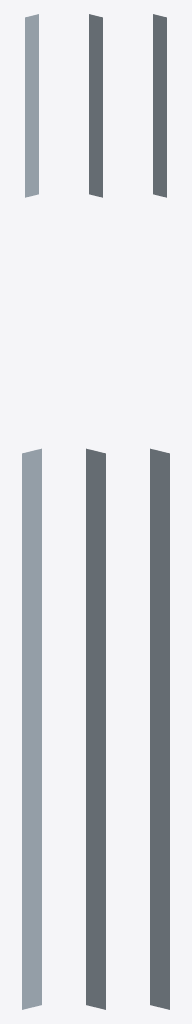
The model's file is Xingqiu_SwordRainVolley_ThreeSimultaneous_RainSwordFineLight.fbx.
The picture shows the model from 3 angles, left to right: view 1: azimuth 30°, elevation 25°; view 2: azimuth 150°, elevation 25°; view 3: azimuth 330°, elevation 25°; orthographic projection.
Parts seen in each view (by area): view 1: PART_RainSwordFineWhiteSpine, PART_RainSwordUpperFineLight; view 2: PART_RainSwordFineWhiteSpine, PART_RainSwordUpperFineLight; view 3: PART_RainSwordFineWhiteSpine, PART_RainSwordUpperFineLight.
Part boxes in pixels (bbox=[...]): PART_RainSwordFineWhiteSpine: bbox=[22, 448, 41, 1009]; PART_RainSwordUpperFineLight: bbox=[25, 14, 38, 197]; PART_RainSwordFineWhiteSpine: bbox=[86, 448, 105, 1009]; PART_RainSwordUpperFineLight: bbox=[89, 14, 102, 197]; PART_RainSwordFineWhiteSpine: bbox=[150, 448, 169, 1009]; PART_RainSwordUpperFineLight: bbox=[153, 14, 166, 197].
Size of the model in its own units: 3.4 by 159 by 2.6e-05.
